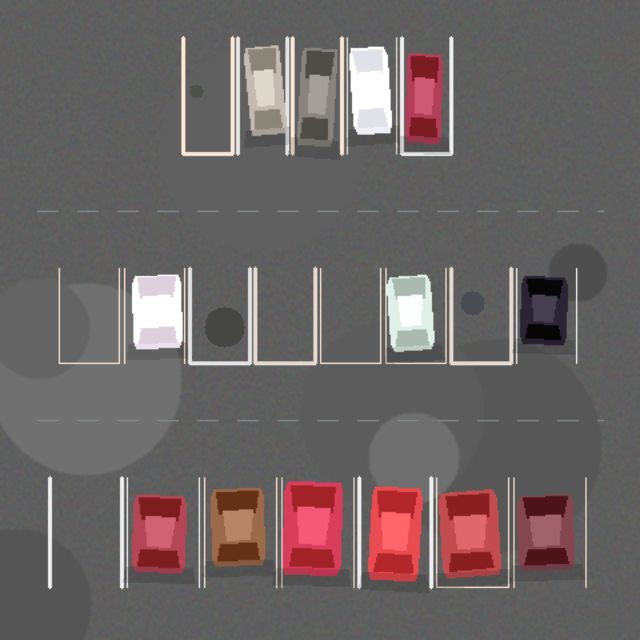space-empty: (49, 477, 121, 587), (59, 268, 119, 363), (189, 268, 249, 363), (255, 268, 315, 363), (320, 268, 380, 363), (451, 268, 511, 363), (183, 37, 232, 153)
space-occupied: (127, 477, 199, 587), (204, 477, 276, 587), (281, 477, 353, 587), (359, 477, 431, 587), (436, 477, 508, 587), (513, 477, 585, 587), (237, 37, 287, 153), (401, 37, 451, 153), (124, 268, 184, 363), (385, 268, 445, 363), (516, 268, 576, 363), (292, 37, 341, 153), (347, 37, 396, 153)
